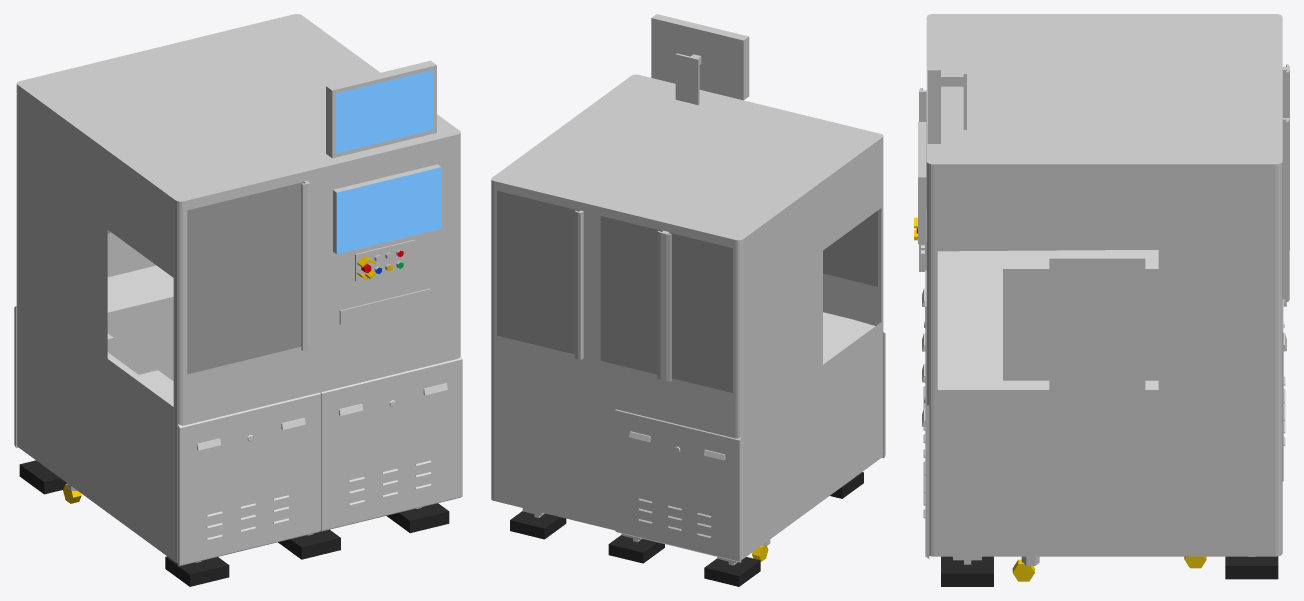
Rendered from E4S-AOI.fbx.
3 views of the same model, side by side, from view 1: azimuth 30°, elevation 25°; view 2: azimuth 150°, elevation 25°; view 3: azimuth 270°, elevation 25° (orthographic). The views are drawn at different scales.
Visible parts, largest first — view 1: 5hao_031; view 2: 5hao_031; view 3: 5hao_031.
Boxes of the visible parts, x1,y1,x2,y2 form: 5hao_031: (14, 14, 462, 586); 5hao_031: (491, 14, 885, 586); 5hao_031: (914, 14, 1289, 586).
Bounding box in the file's own units: 130 × 204 × 137.
